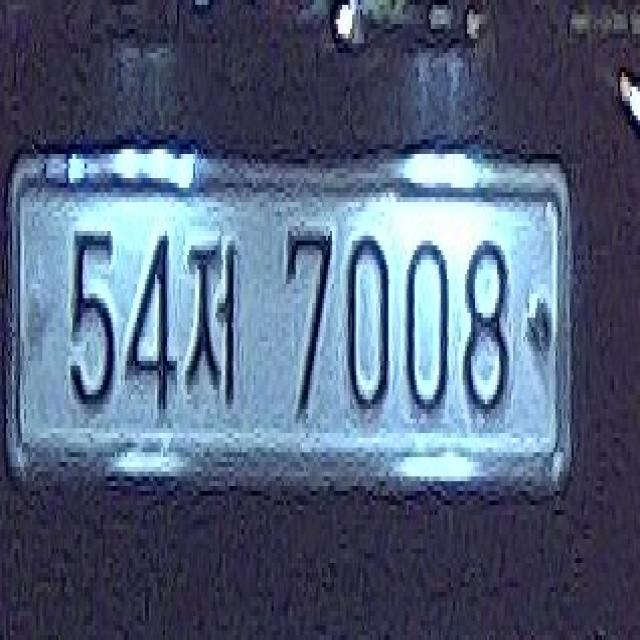0: (338, 202, 397, 443), (398, 202, 455, 438)
4: (117, 198, 175, 428)
5: (54, 197, 115, 409)
7: (284, 202, 338, 443)
8: (461, 221, 535, 438)
jeo: (183, 226, 252, 409)
license_plate: (4, 144, 580, 491)
